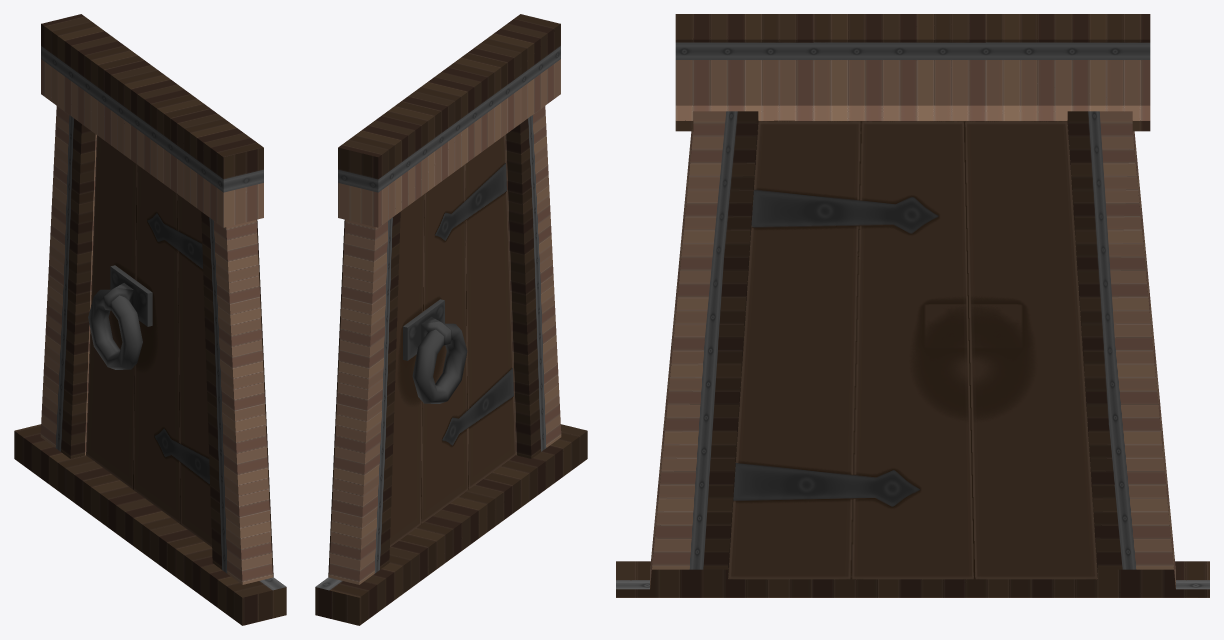
Rendered from Door.fbx.
3 renders of one model, left to right at view 1: azimuth 30°, elevation 25°; view 2: azimuth 150°, elevation 25°; view 3: azimuth 270°, elevation 25°, orthographic. The views are drawn at different scales.
Parts seen in each view (by area): view 1: Door; view 2: Door; view 3: Door.
Part boxes in pixels (x1,y1,x2,y2): Door: (14, 14, 286, 625); Door: (315, 14, 587, 625); Door: (616, 14, 1209, 597).
Bounding box in the file's own units: 32.93 × 320 × 294.
